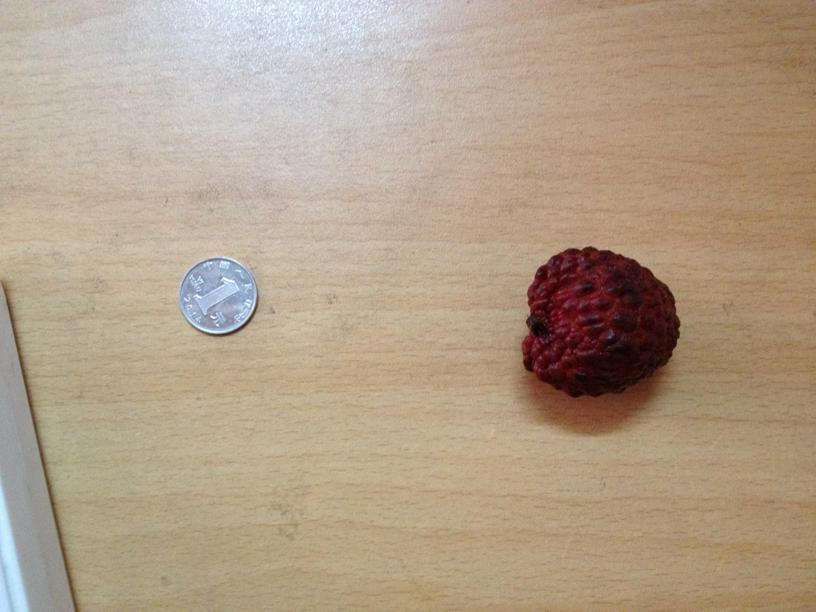coin: (178, 258, 259, 335)
litchi: (516, 244, 680, 397)
